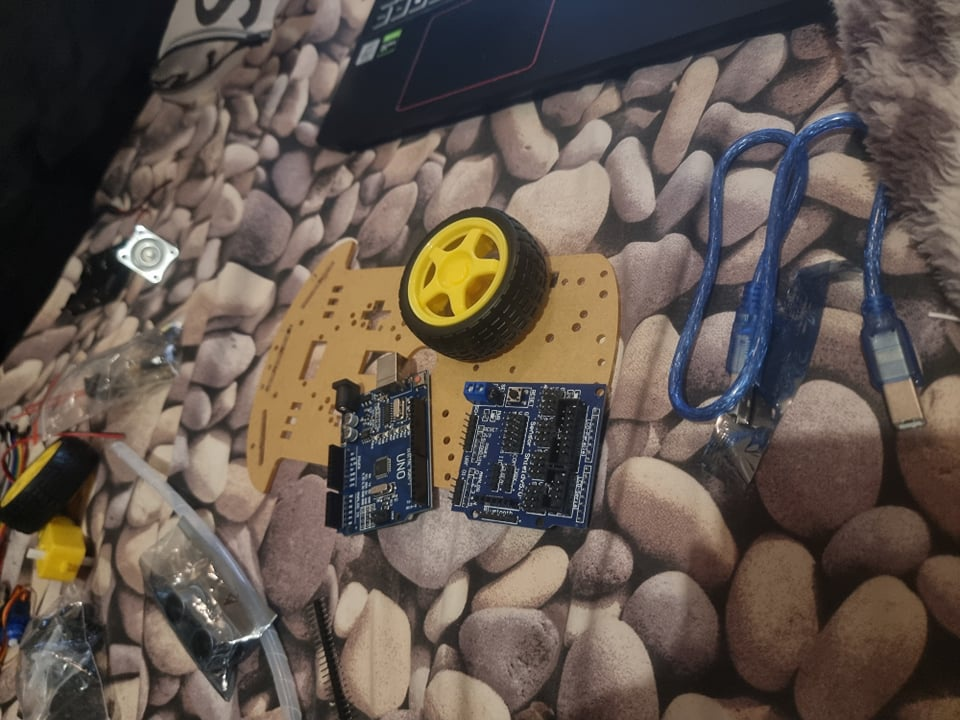5V EXPANSION: (450, 383, 603, 529)
BATTERY BOX: (57, 247, 125, 324)
UNO R3: (320, 354, 438, 530)
